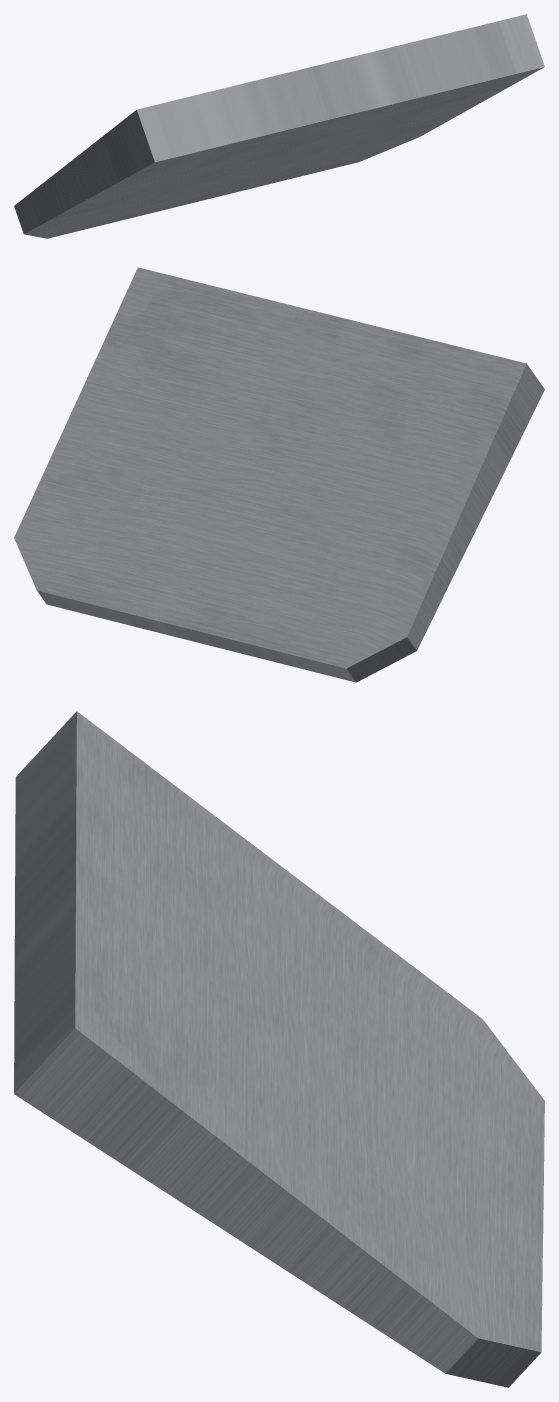
The model's file is Petal_Ramp_S.obj.
3 renders of one model, top to bottom at view 1: azimuth 30°, elevation 25°; view 2: azimuth 150°, elevation 25°; view 3: azimuth 270°, elevation 25°, orthographic. The views are drawn at different scales.
Parts seen in each view (by area): view 1: Petal_Ramp; view 2: Petal_Ramp; view 3: Petal_Ramp.
Boxes of the visible parts, box(x1,y1,x2,y2) form: Petal_Ramp: box(14, 14, 544, 238); Petal_Ramp: box(14, 267, 544, 682); Petal_Ramp: box(14, 711, 544, 1387).
Bounding box in the file's own units: 10.1 × 5.74 × 7.02.
